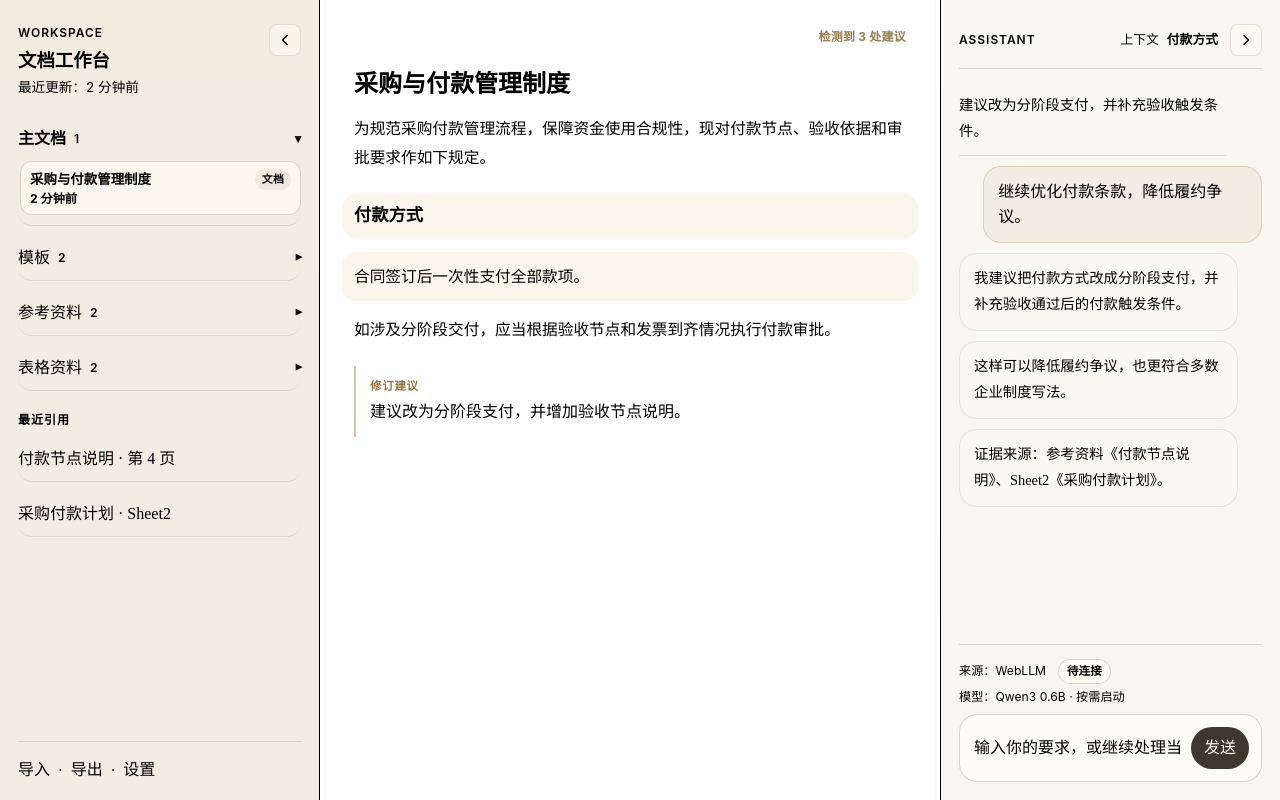
workspace shell › highlights drafting recommendations when the current task is document generation
The image size is (1280, 800).
Click the button "设置" at (139, 770), box [123,758,155,782]
(page scrolled)
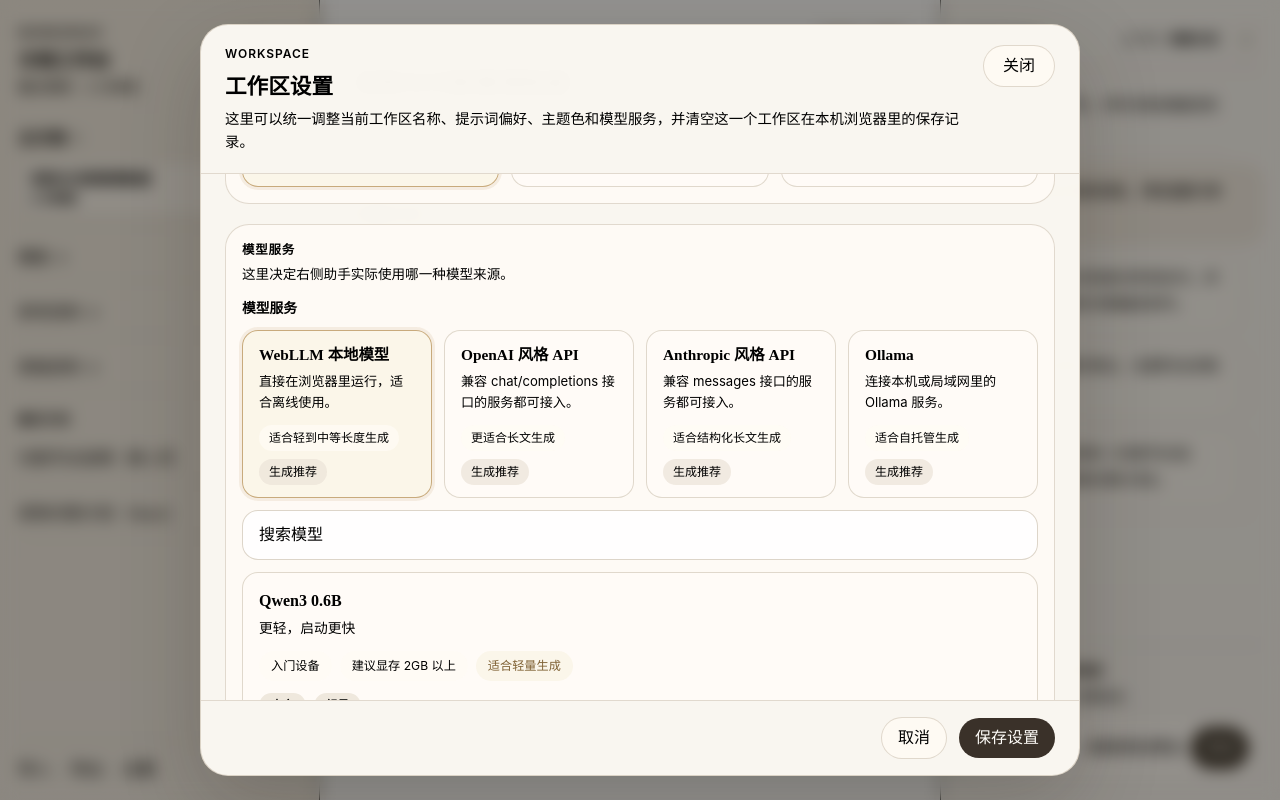
Expected: the text "生成推荐" below "适合轻到中等长度生成" is shown, [269,464,317,478]
Expected: the text "更适合长文生成" is shown, [461,424,565,450]
